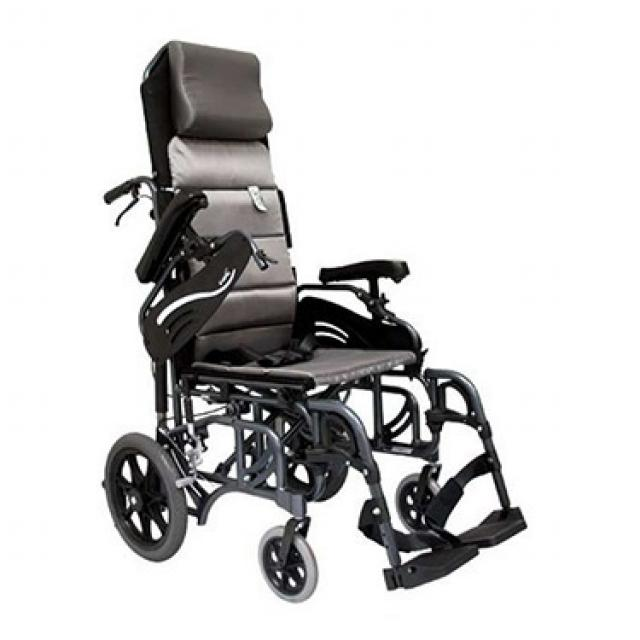wheelchair: (84, 34, 543, 614)
